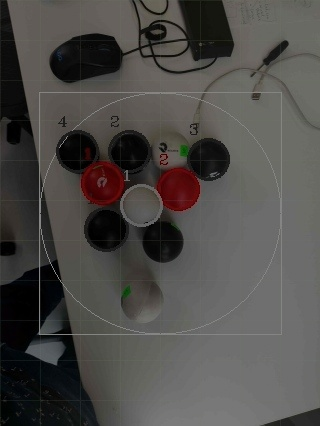Pelota blanca: (268, 49, 320, 128), (119, 182, 163, 227), (119, 278, 163, 323), (260, 411, 320, 425)
Pelota negra: (47, 31, 123, 83), (82, 206, 129, 254), (185, 137, 230, 182), (55, 129, 100, 174), (140, 220, 185, 264), (106, 129, 150, 171)
Pelota roja: (79, 158, 126, 206), (156, 166, 201, 211)
